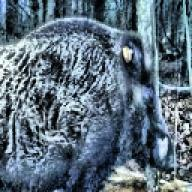boar: (0, 13, 172, 192)
